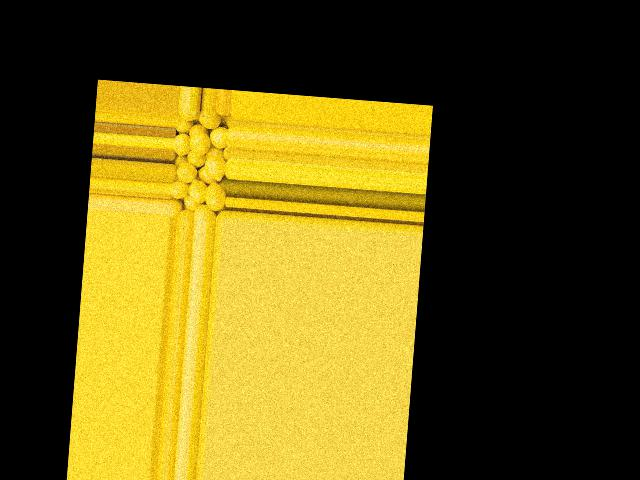lemon: (175, 162, 200, 182)
